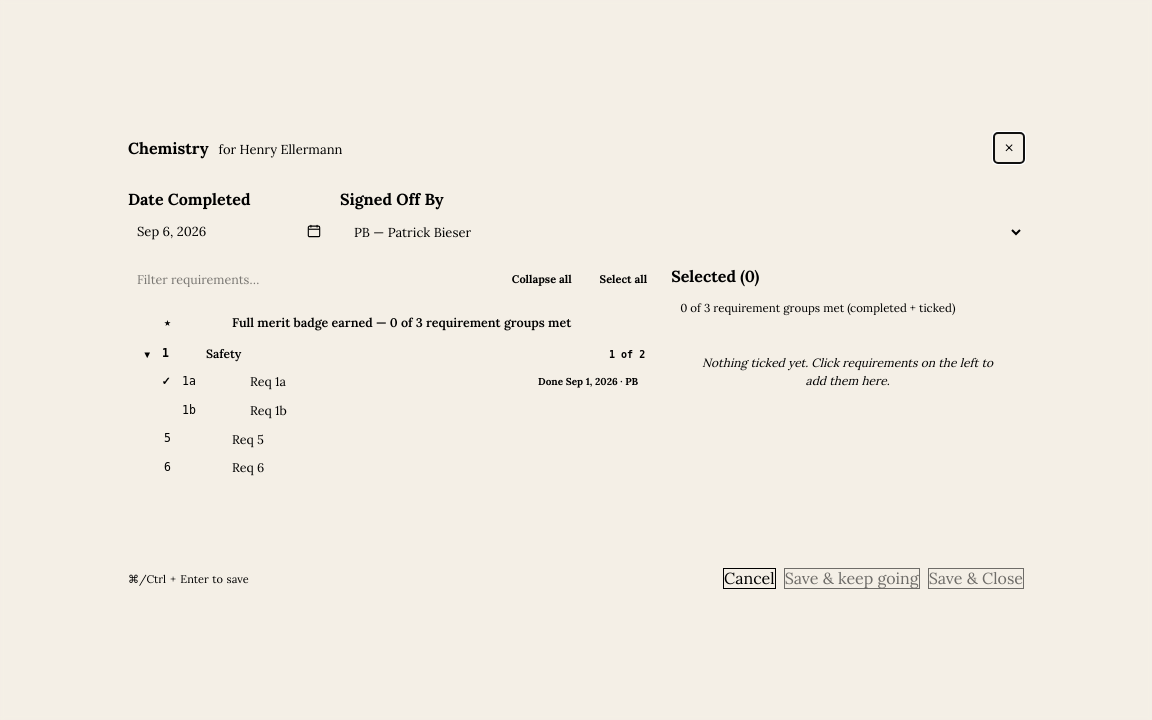
Test: MbFocusModal ★ award row › still gates the award when partial progress exists
The width and height of the screenshot is (1152, 720).
Click the button "★ Full merit badge earned — 0 of 3 requirement groups met".
click(368, 322)  # box [164, 314, 571, 330]
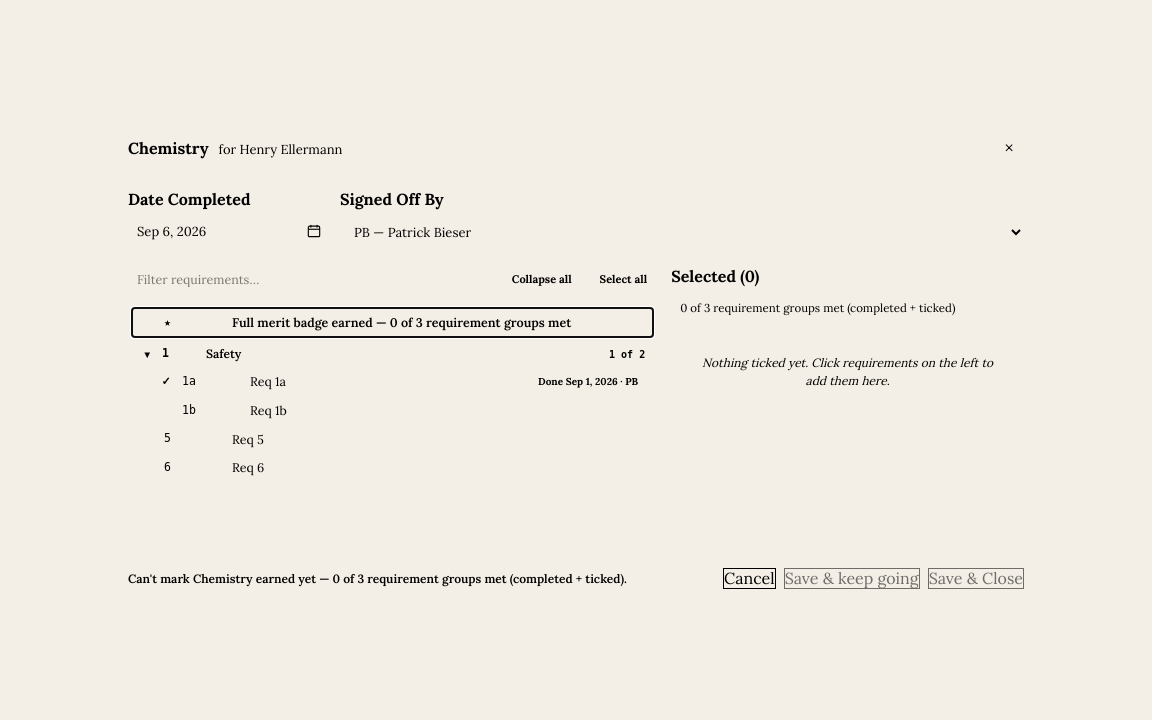
Expected: the text "Selected (0)" is shown, [671, 266, 759, 286]
Result: the text "Can't mark Chemistry earned yet — 0 of 3 requirement groups met" is shown at [128, 571, 627, 586]
